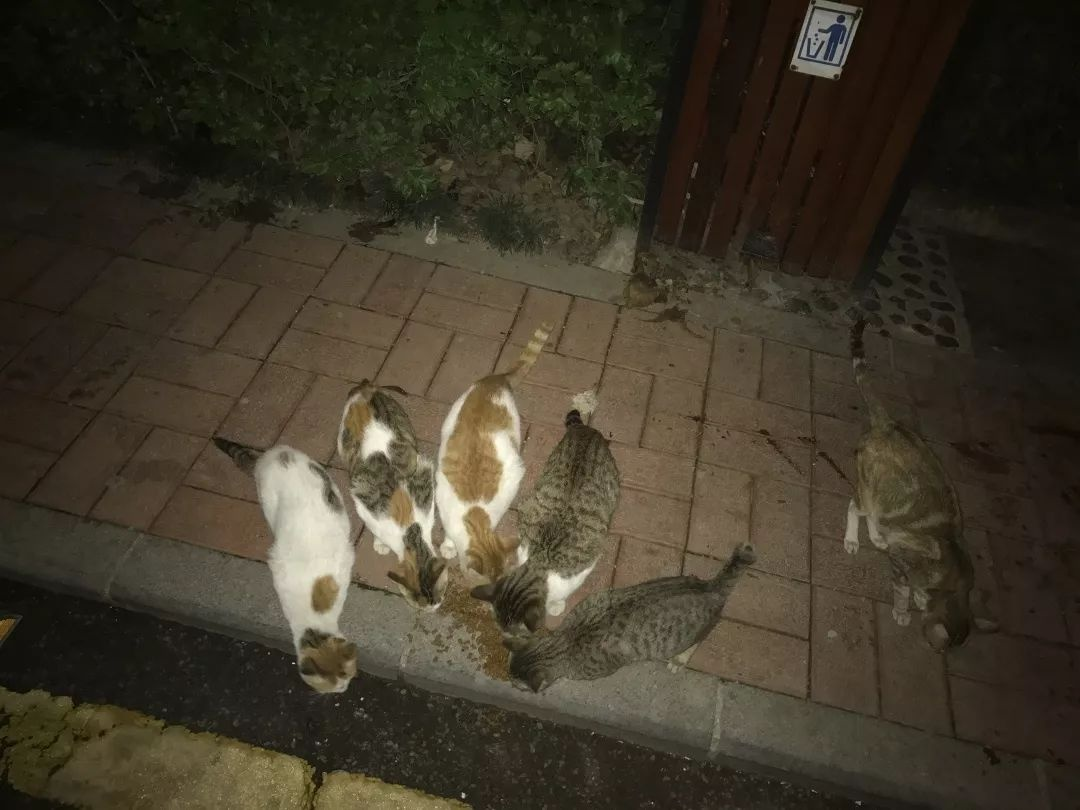cat: (841, 318, 1001, 659), (500, 540, 756, 695), (213, 436, 360, 697), (468, 406, 624, 637), (434, 319, 556, 587), (336, 379, 448, 613)
